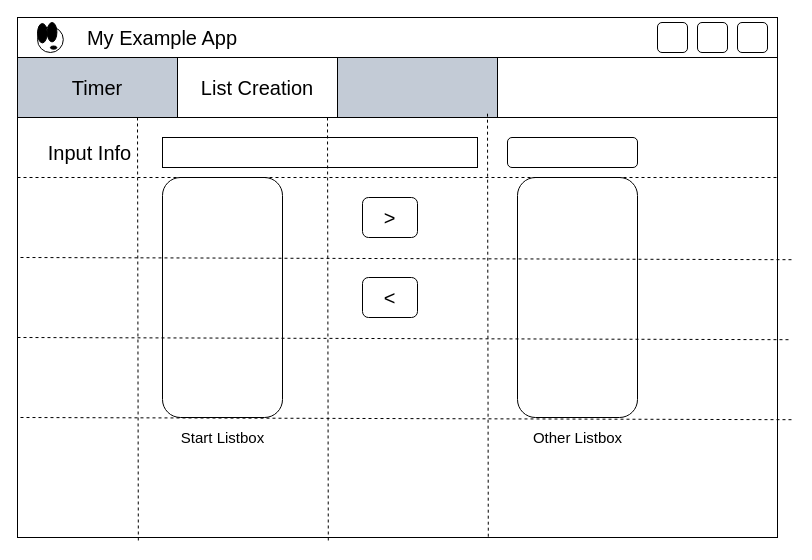
This 812x560 diagram has some shape labels left out. The box of each missing label's shape, as (x1, y1, x2, y2) in pixels:
Add: (506, 136, 638, 168)
Text Editor: (336, 56, 498, 118)
